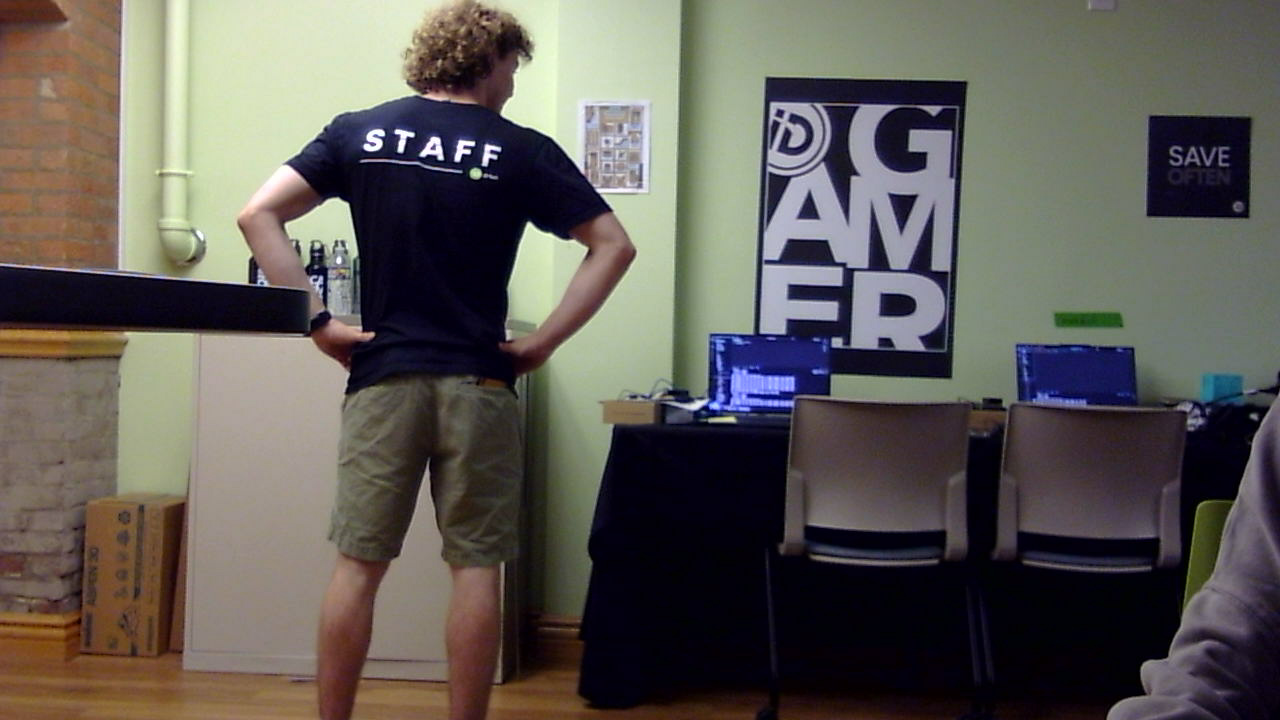staff: (329, 25, 568, 720)
